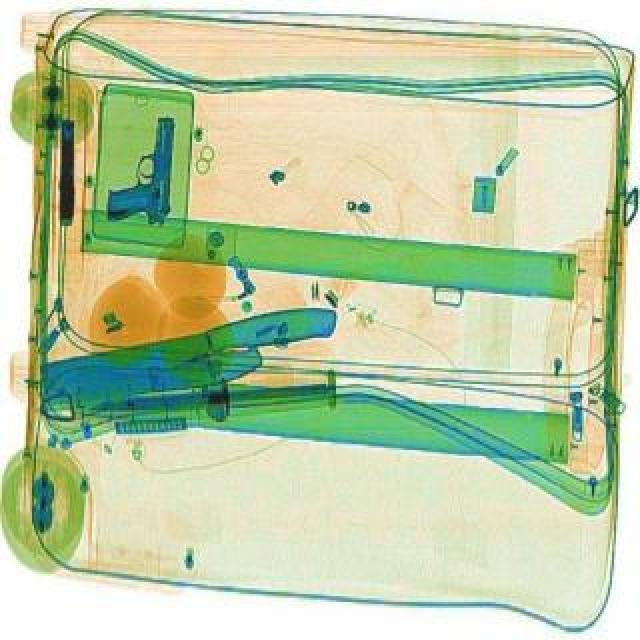gun: (106, 118, 176, 232), (54, 122, 80, 228)
knife: (32, 302, 348, 426), (38, 342, 266, 414), (86, 382, 330, 422)
